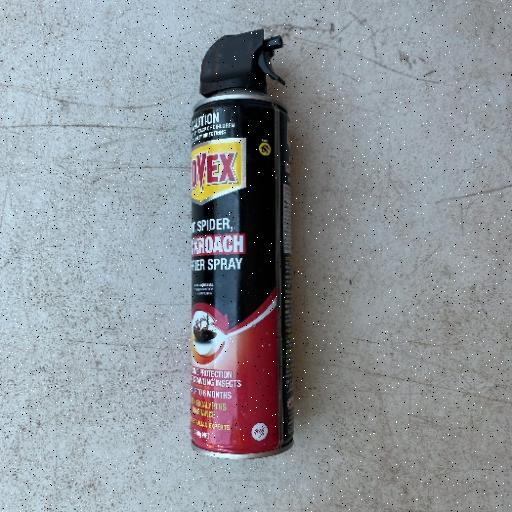Metal: (186, 28, 298, 460)
